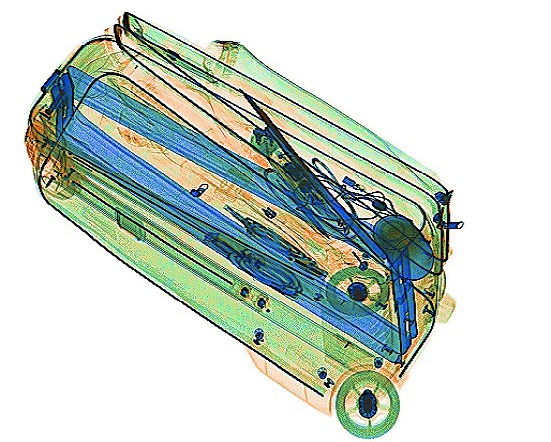knife: (252, 149, 330, 240)
pressure: (362, 206, 435, 280)
